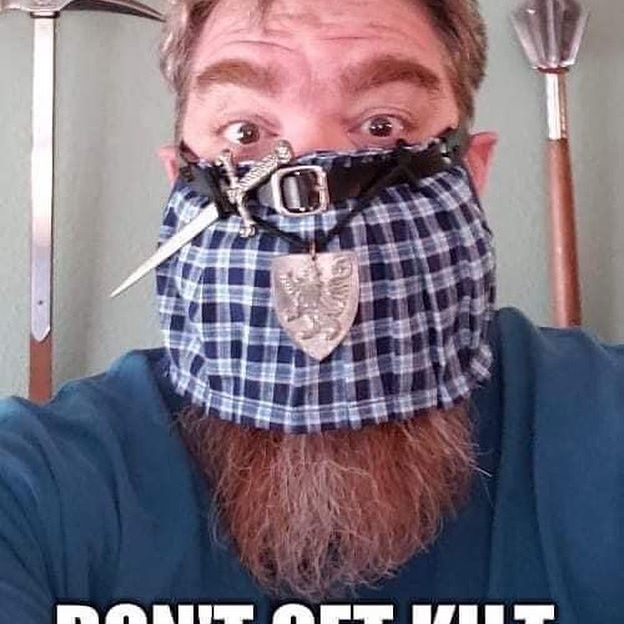homemade: (152, 166, 510, 421)
